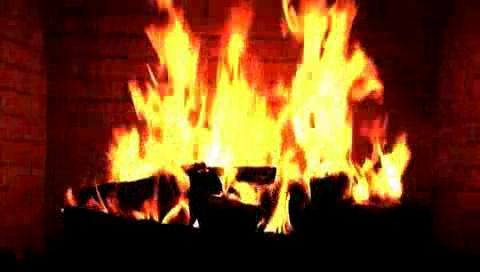fire: (91, 0, 423, 231)
